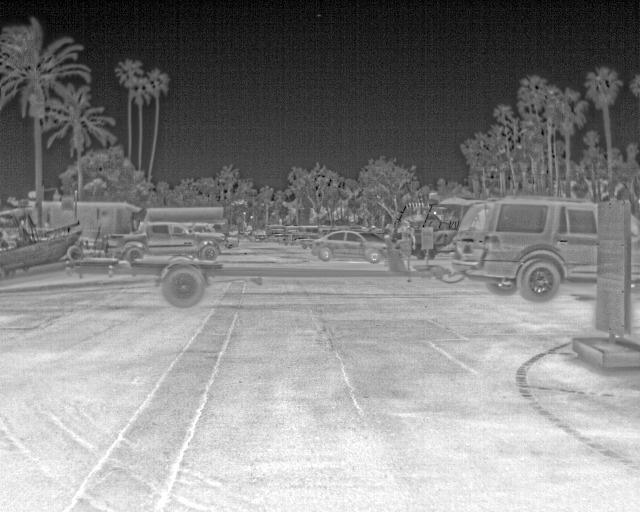bicycle: (451, 195, 596, 302), (309, 228, 385, 263)
empty: (396, 220, 415, 270)
